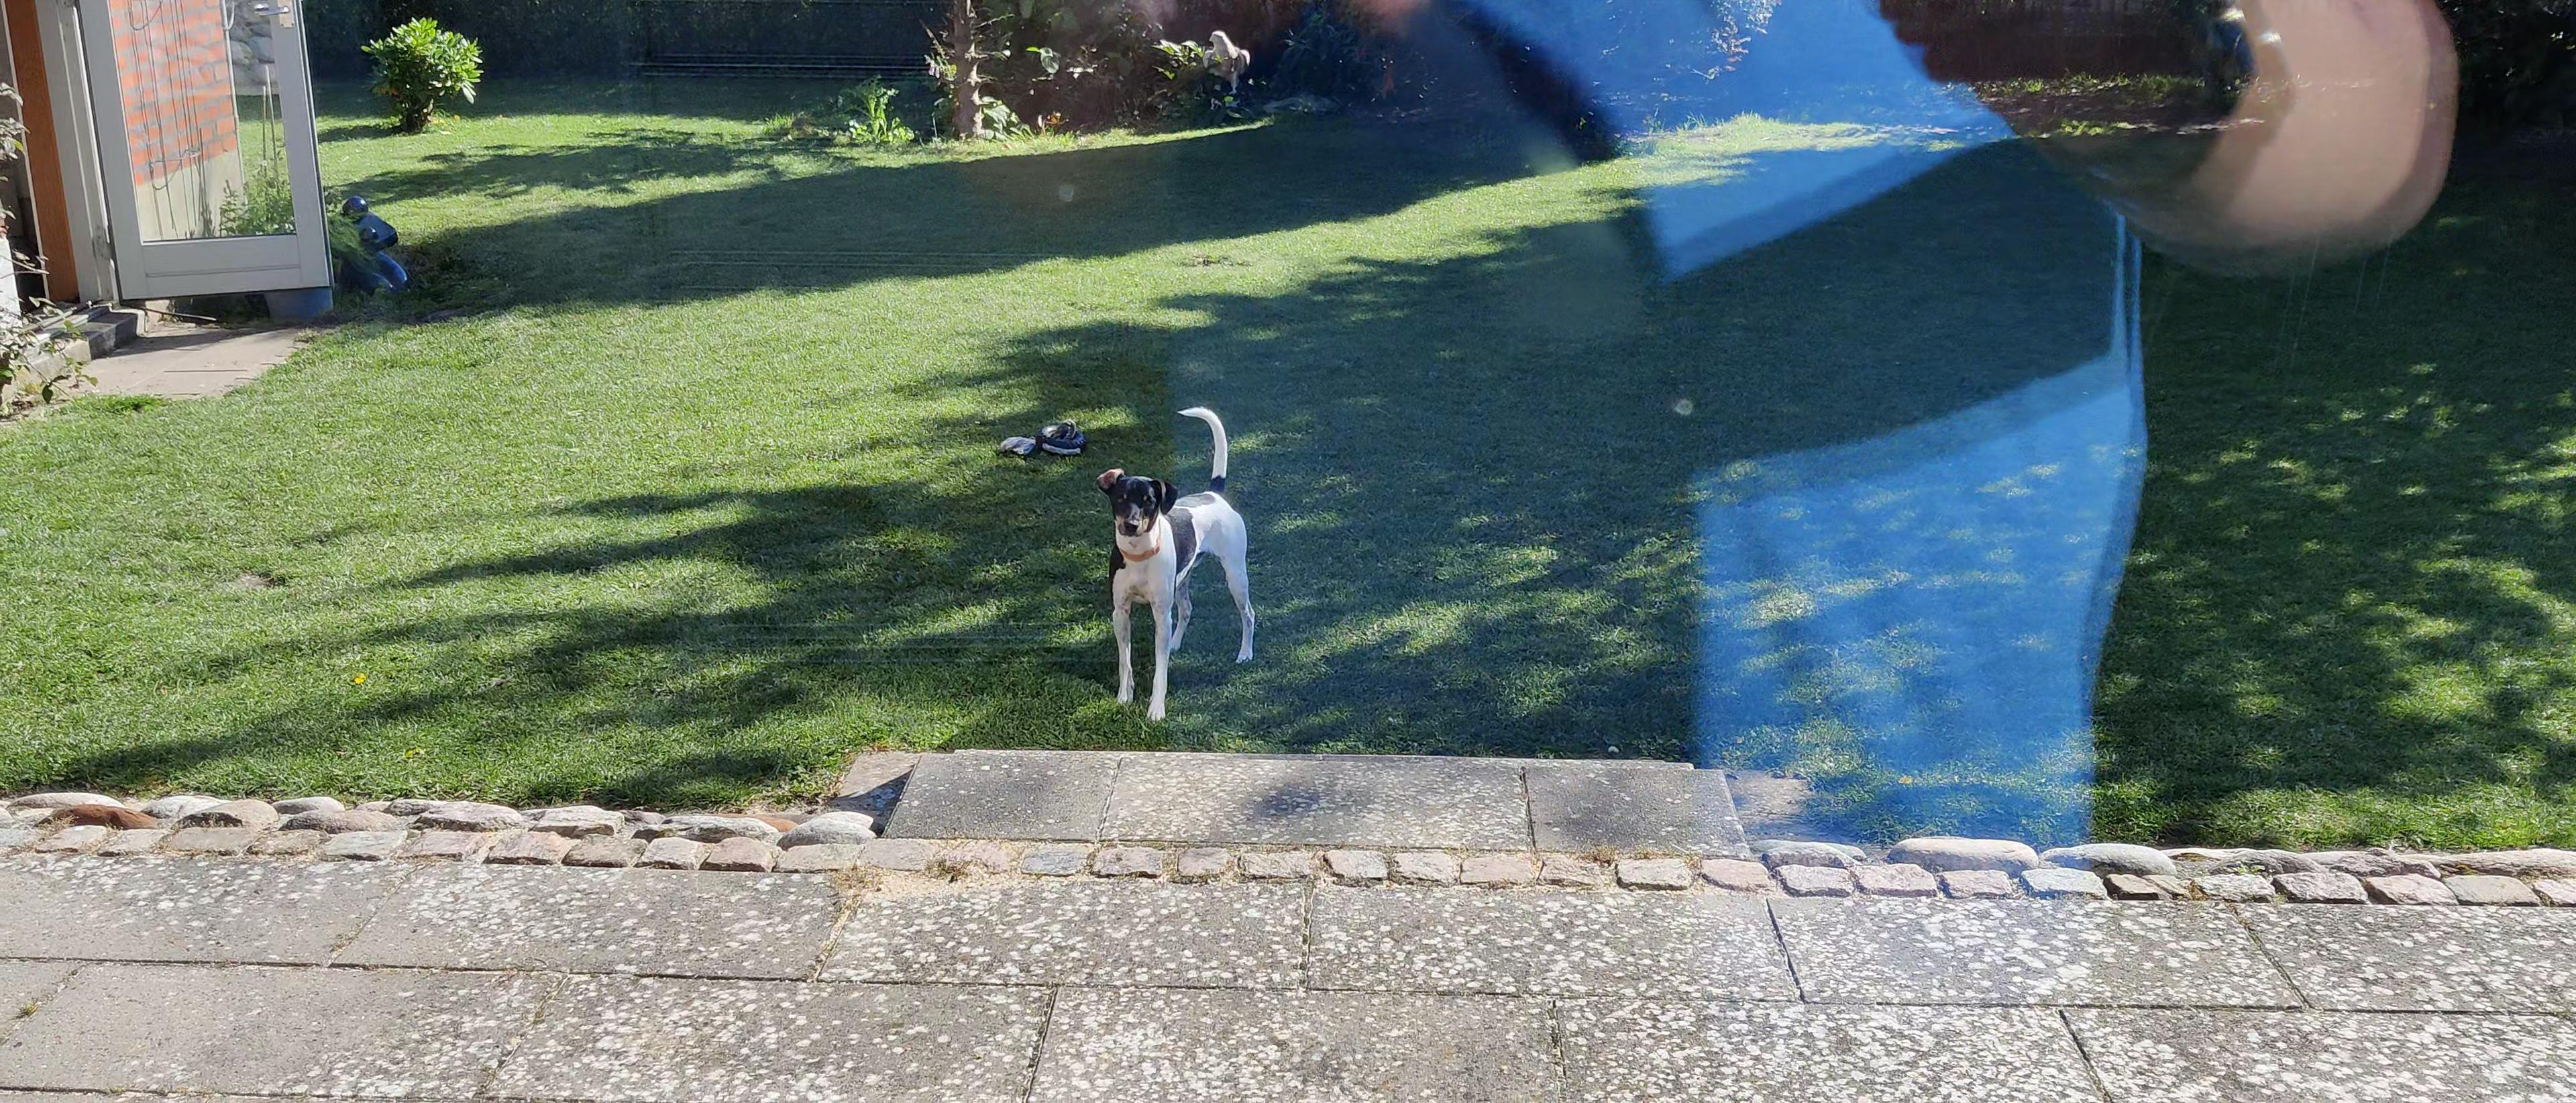Dog: (1088, 381, 1262, 717)
